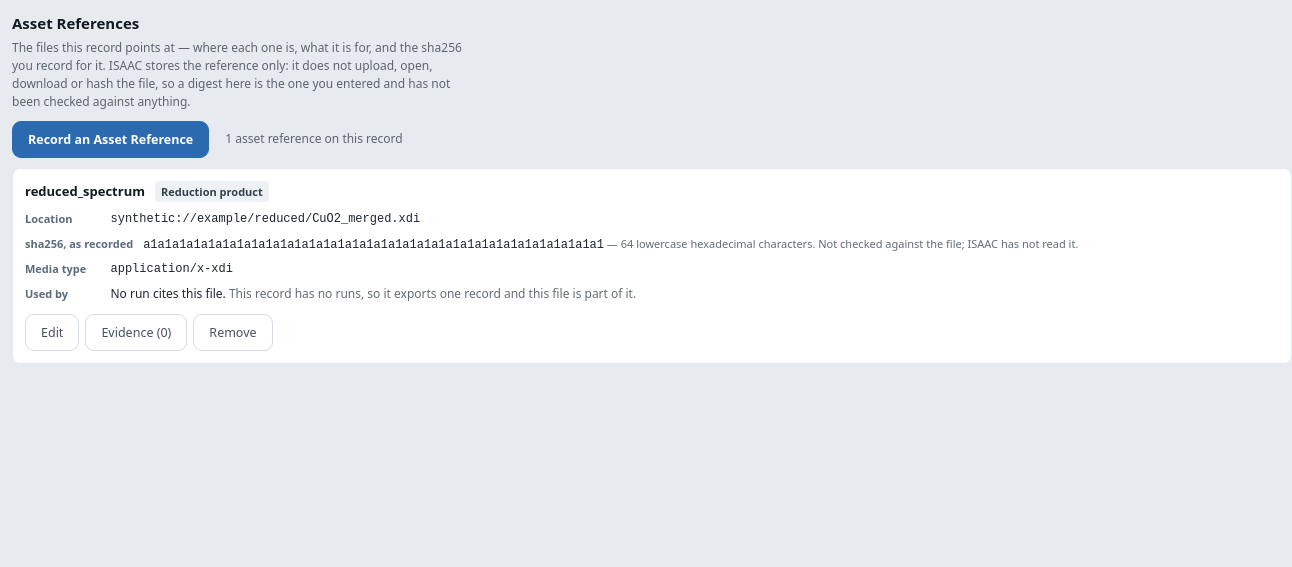
it: the evidence view › says an unevidenced asset blocks export rather than inventing evidence
Expected: the heading "reduced_spectrum" is shown, [25,181,145,201]
Click the button "Evidence (0)".
click(136, 332)  # box [85,314,187,351]
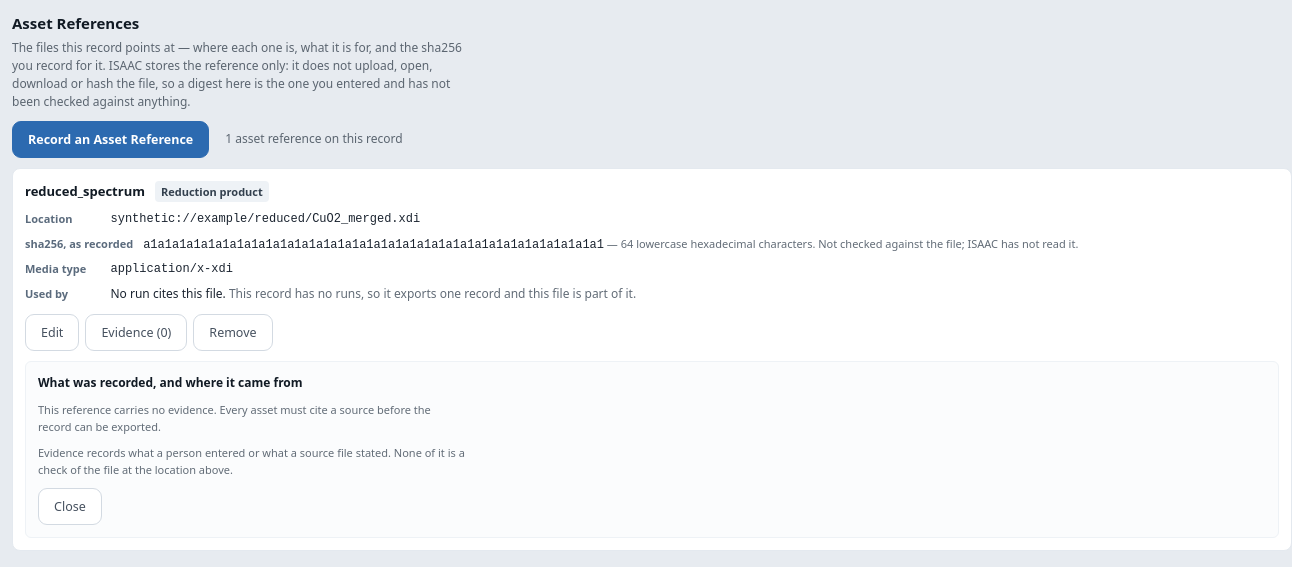
Now the text "must cite a source before the record can be exported" is shown, box [38,402,431,434]
